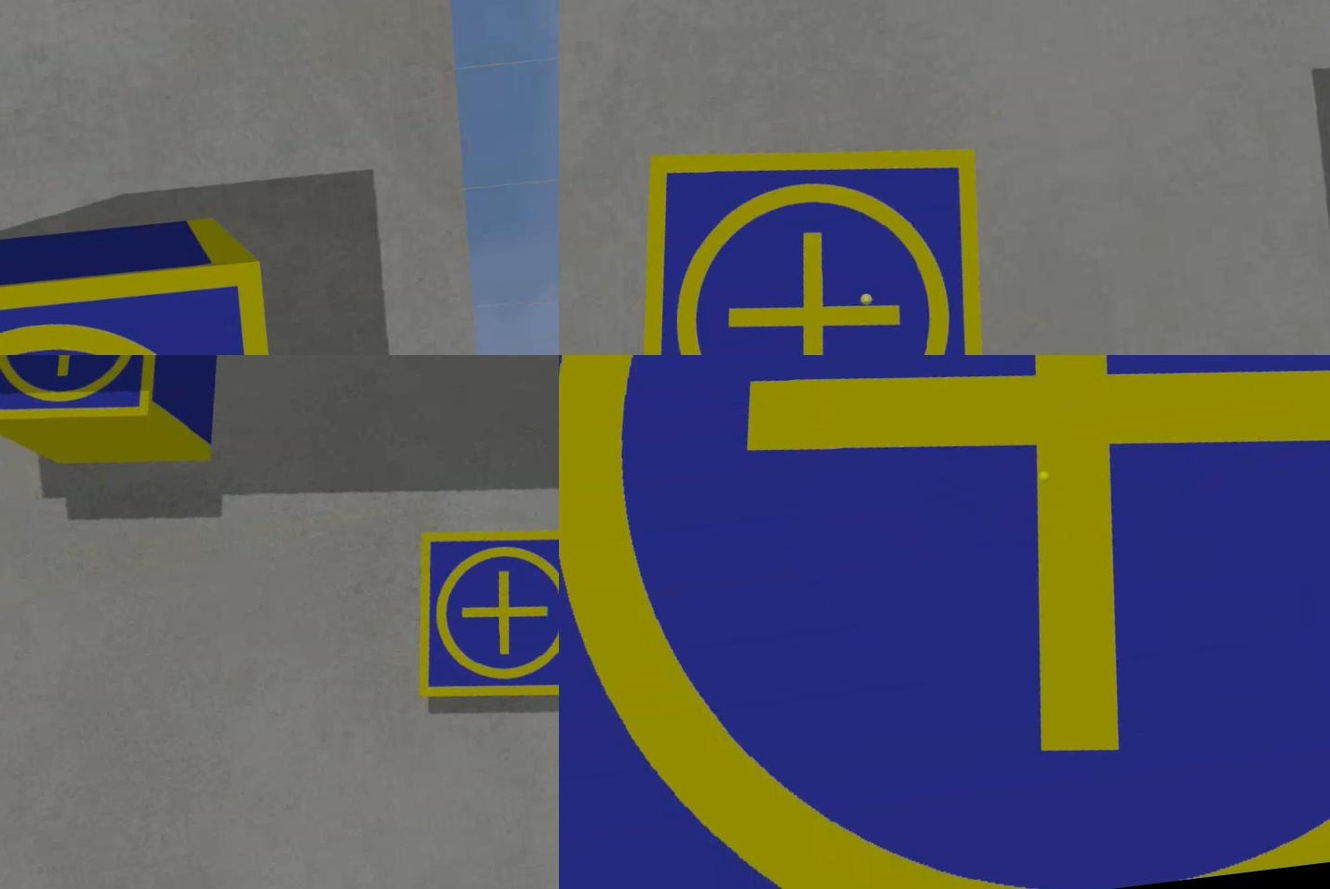small_base: (558, 356, 1328, 889), (596, 118, 1015, 356), (394, 508, 558, 723), (0, 356, 188, 439)
